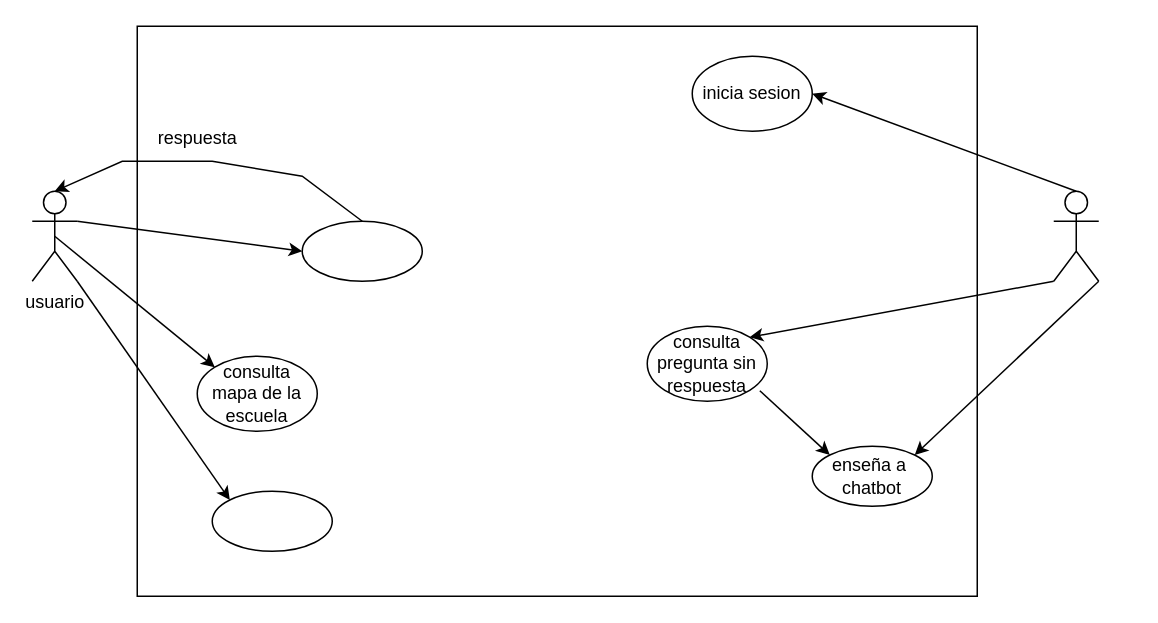
Image size: 1158x623. Some labels were removed from this diagram. The box of each missing label's shape, as (x1, y1, x2, y2) in pixels:
Administrador: (1052, 190, 1099, 281)
Hace una consulta: (301, 220, 422, 281)
preguntas frecuentes: (211, 490, 332, 551)
